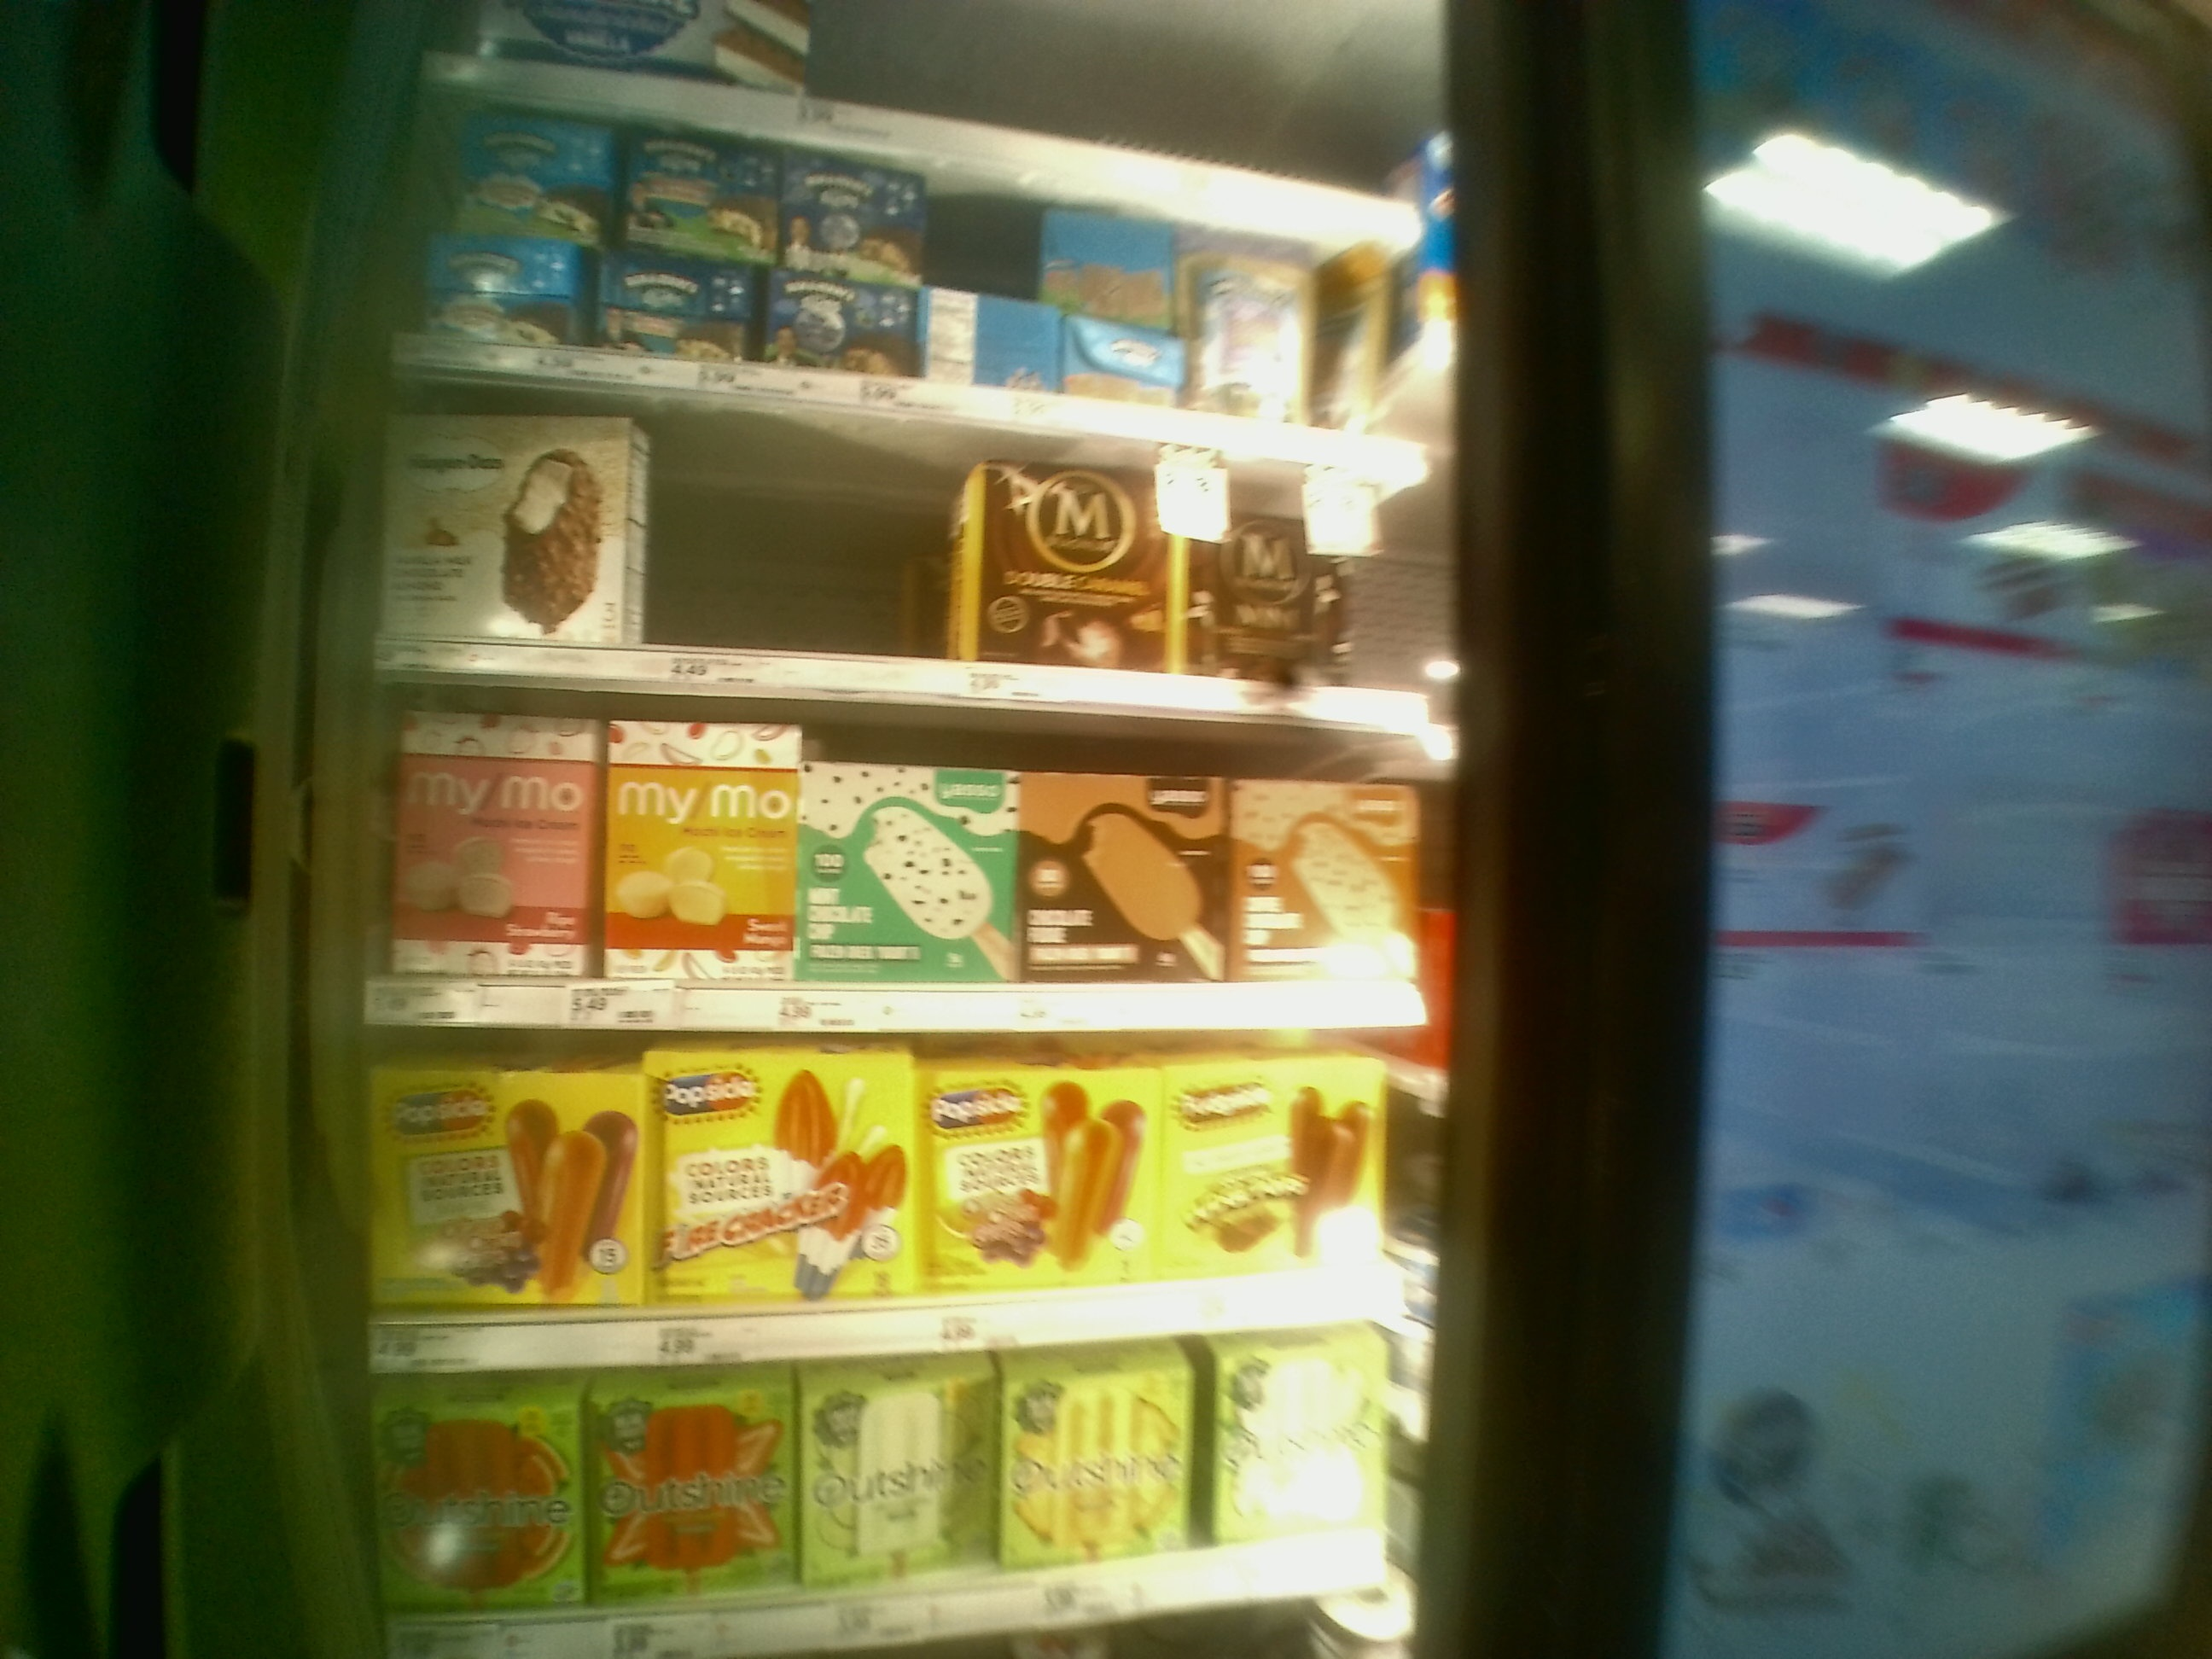ice-cream-shelf: (380, 683, 1444, 1030)
